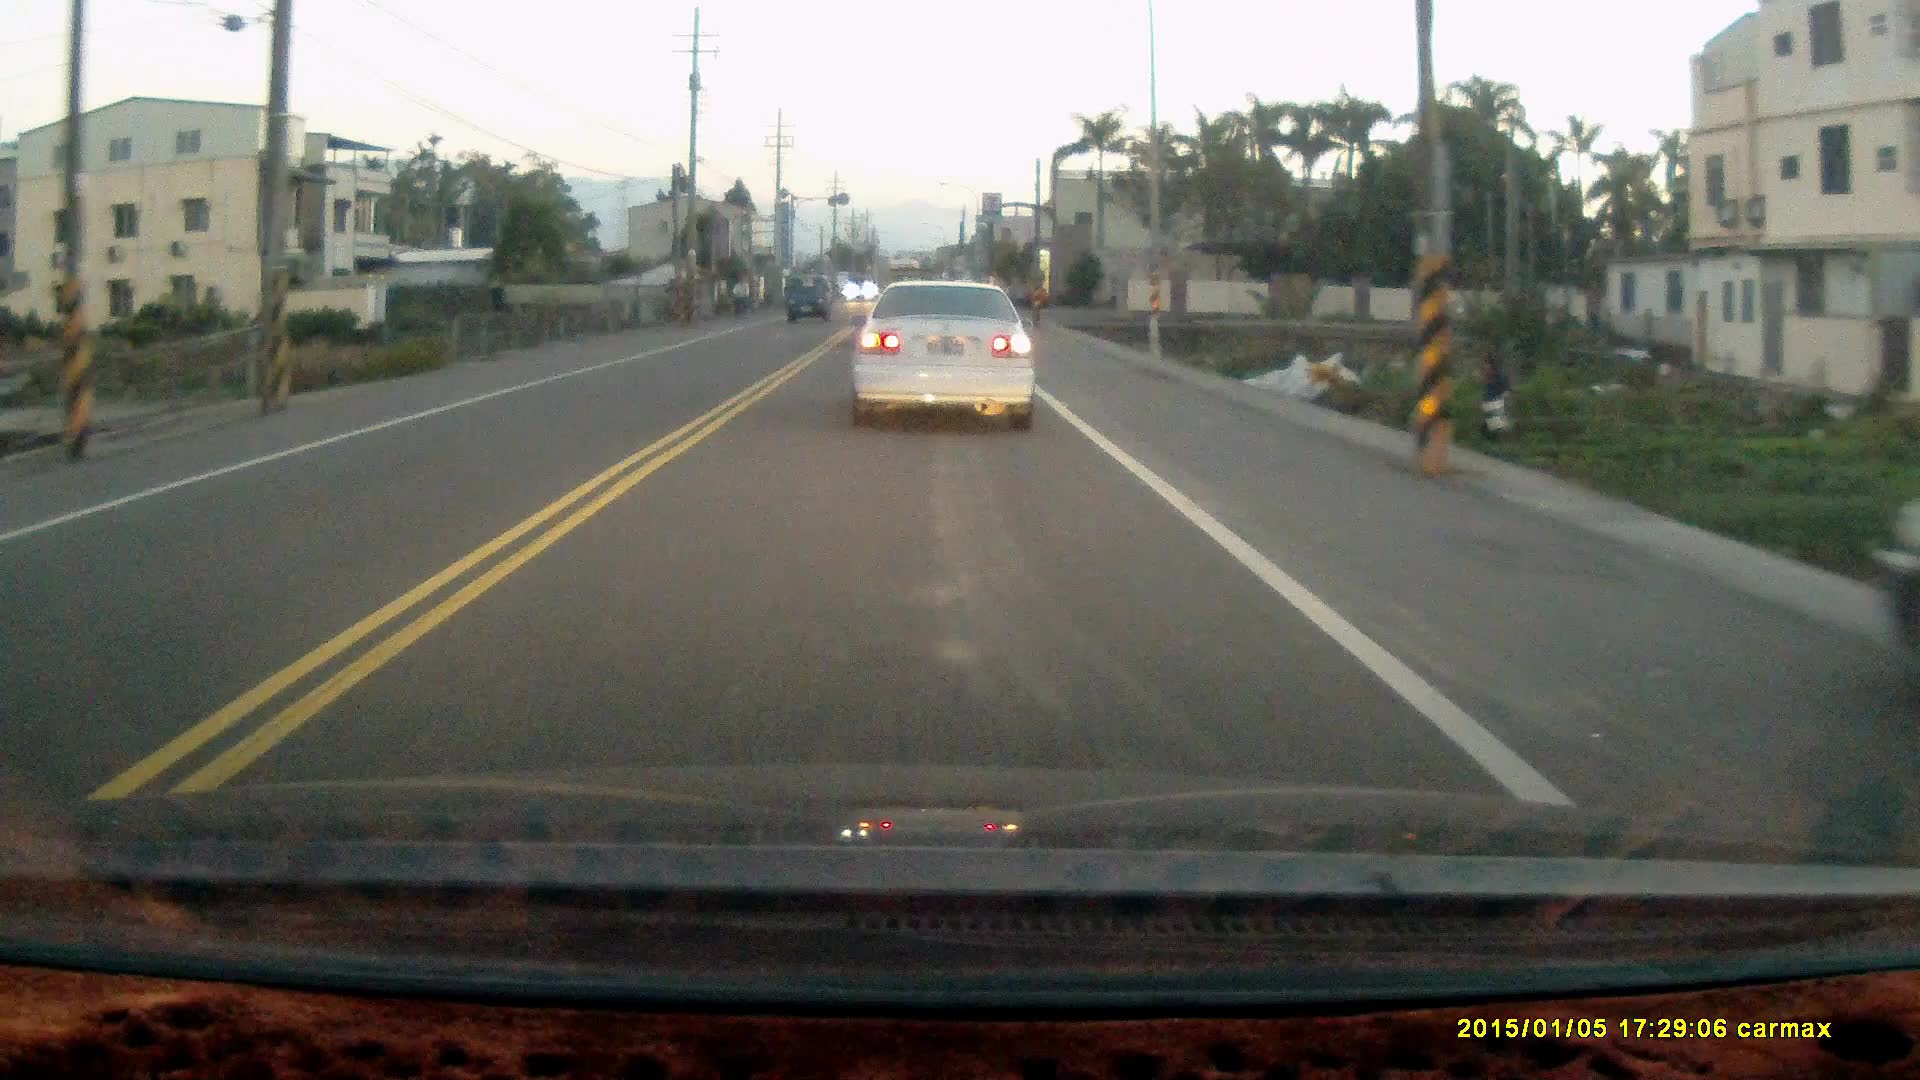pedestrian: (1475, 356, 1512, 448)
rider: (728, 269, 749, 317)
vehicle: (852, 290, 1042, 432), (787, 283, 838, 327)
